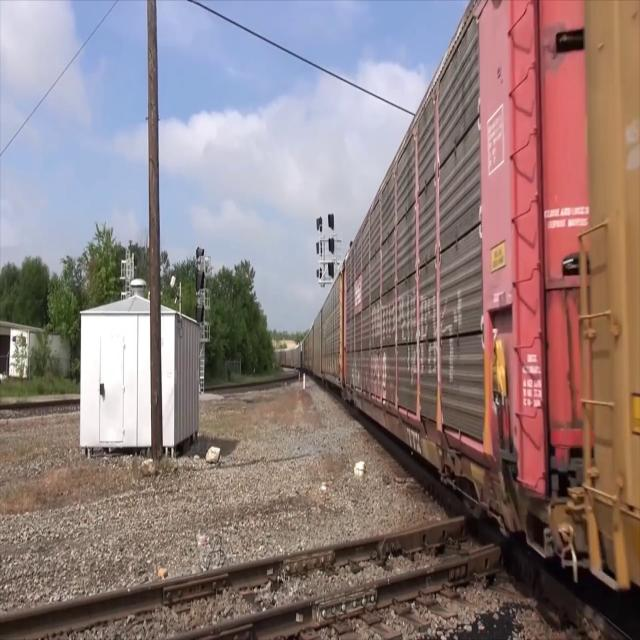autorack: (344, 0, 582, 539), (321, 264, 343, 410)
